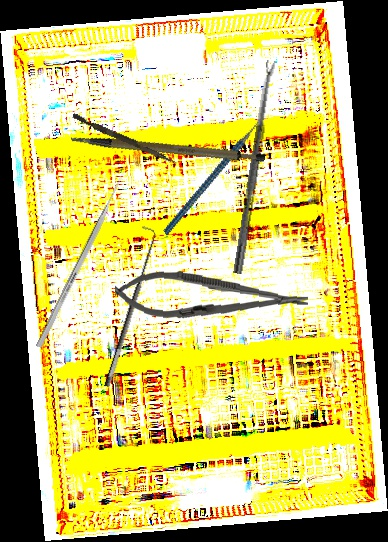Chopper: (133, 102, 296, 236)
Hook Surgical: (92, 224, 163, 389)
Needle Holder: (113, 267, 310, 327)
Pusher: (35, 170, 128, 349), (70, 113, 180, 165)
Scalpel Handle: (70, 105, 267, 188)
Surgical Spoon: (233, 59, 277, 275)
